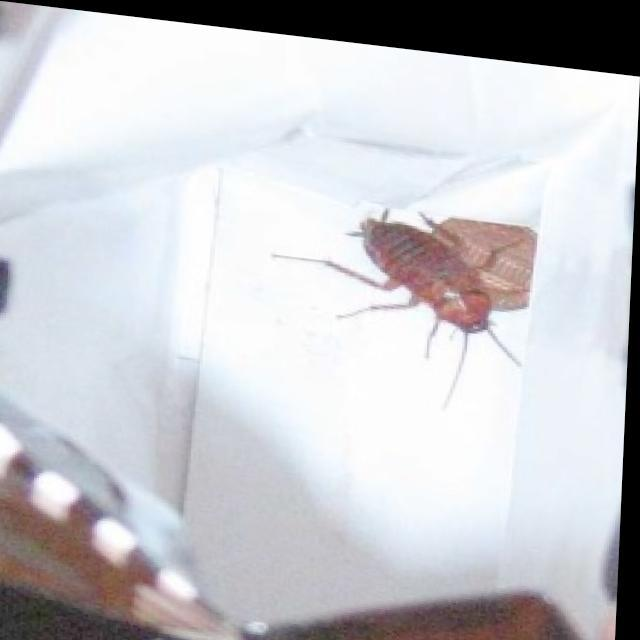cockroach: (269, 201, 541, 410)
